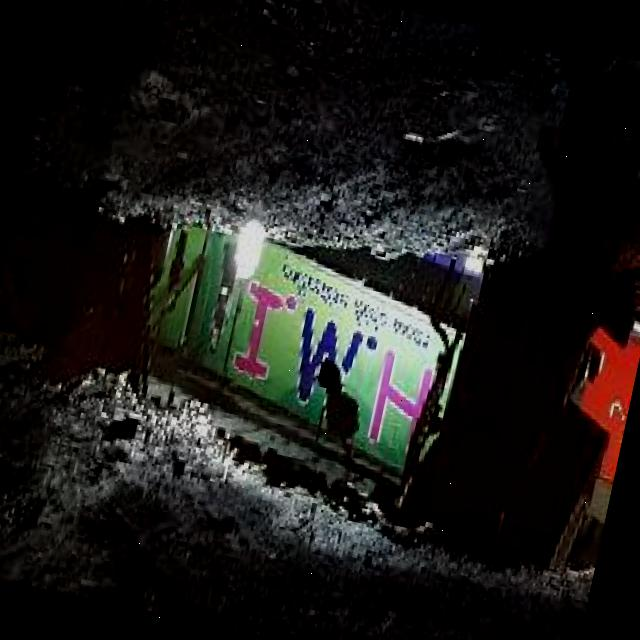stagnation: (0, 185, 178, 395)
